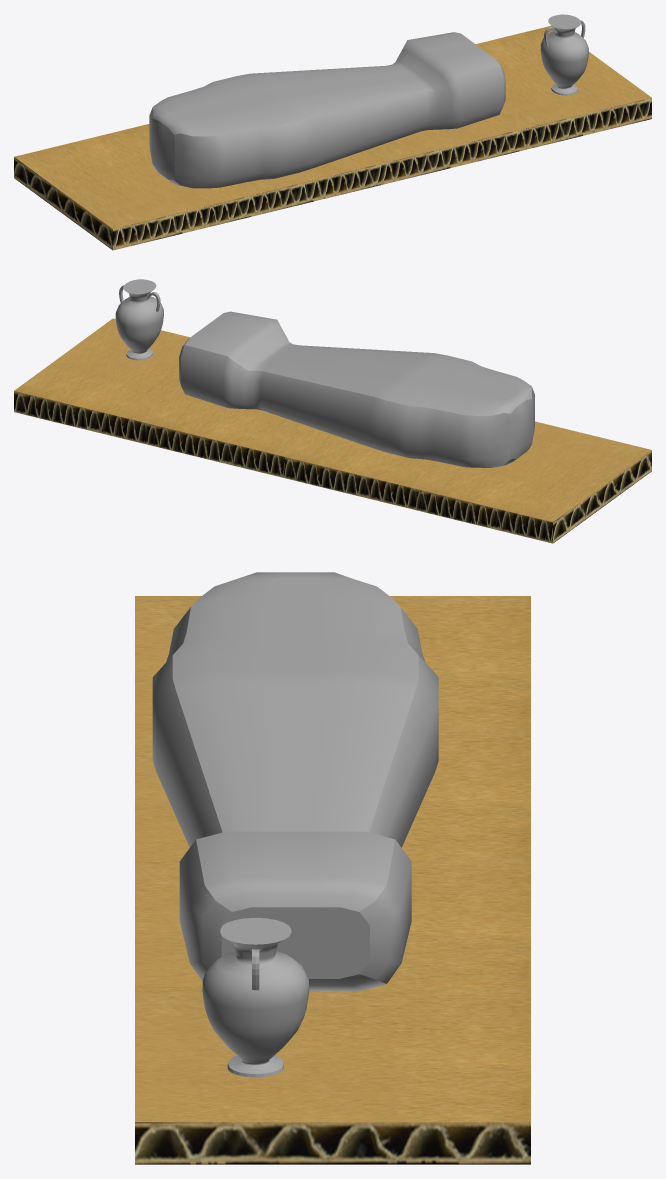
The model's file is Ancient Decorated Platform 3.fbx.
The picture shows the model from 3 angles, top to bottom: view 1: azimuth 30°, elevation 25°; view 2: azimuth 150°, elevation 25°; view 3: azimuth 270°, elevation 25°; orthographic projection. The views are drawn at different scales.
Visible parts, largest first — view 1: Ancient_Sarcophagus_3, Platform_7_1, Platform_7_4, Platform_7_3, Platform_7_2, Ancient_Storage_Vase_7_01; view 2: Ancient_Sarcophagus_3, Platform_7_1, Platform_7_4, Platform_7_3, Platform_7_2, Ancient_Storage_Vase_7_01; view 3: Ancient_Sarcophagus_3, Platform_7_4, Platform_7_3, Platform_7_2, Platform_7_1, Ancient_Storage_Vase_7_01.
Part boxes in pixels (<box>): Ancient_Sarcophagus_3: <box>149,32,505,188</box>; Platform_7_1: <box>14,124,251,250</box>; Platform_7_4: <box>476,25,651,150</box>; Platform_7_3: <box>364,115,519,184</box>; Platform_7_2: <box>236,151,382,216</box>; Ancient_Storage_Vase_7_01: <box>540,14,588,95</box>; Ancient_Sarcophagus_3: <box>179,311,534,467</box>; Platform_7_1: <box>414,421,651,543</box>; Platform_7_4: <box>14,318,189,444</box>; Platform_7_3: <box>146,394,320,477</box>; Platform_7_2: <box>283,430,455,511</box>; Ancient_Storage_Vase_7_01: <box>115,279,163,360</box>; Ancient_Sarcophagus_3: <box>152,572,438,990</box>; Platform_7_4: <box>135,987,530,1164</box>; Platform_7_3: <box>135,859,530,986</box>; Platform_7_2: <box>135,724,530,859</box>; Platform_7_1: <box>135,596,530,731</box>; Ancient_Storage_Vase_7_01: <box>202,918,309,1077</box>.
Bounding box in the file's own units: 42.22 × 6.65 × 13.42.
2 materials, 1 textured.
